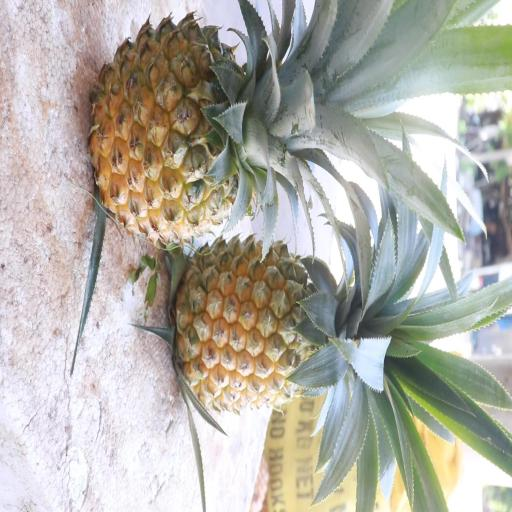Pineapple - v8 v1: (82, 6, 327, 252), (170, 230, 398, 421)
